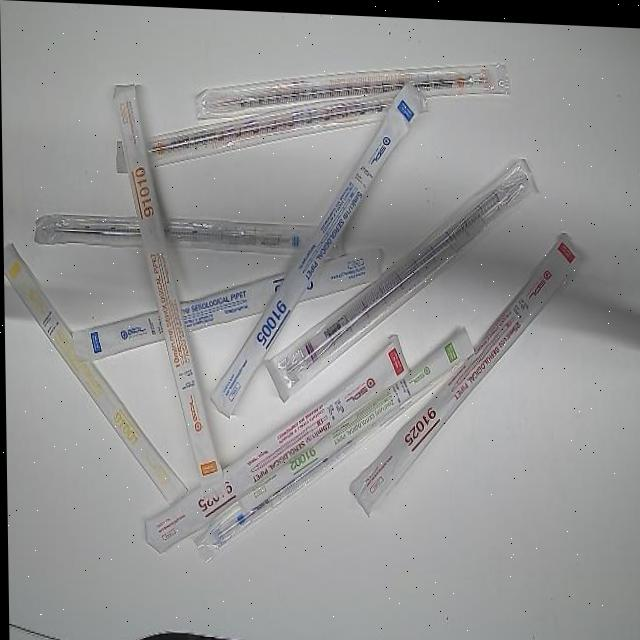Serelogical Pipet 1 mL: (3, 238, 192, 505)
Serelogical Pipet 10 mL: (111, 81, 230, 497), (112, 69, 431, 186), (182, 44, 512, 132)
Serelogical Pipet 2 mL: (233, 312, 477, 523)
Serelogical Pipet 25 mL: (344, 215, 588, 523), (136, 322, 414, 564)
Serelogical Pipet 5 mL: (202, 70, 434, 425), (189, 343, 463, 569), (68, 232, 387, 374), (32, 211, 348, 259)
Serelogical Pipet 50 mL: (261, 143, 547, 410)
